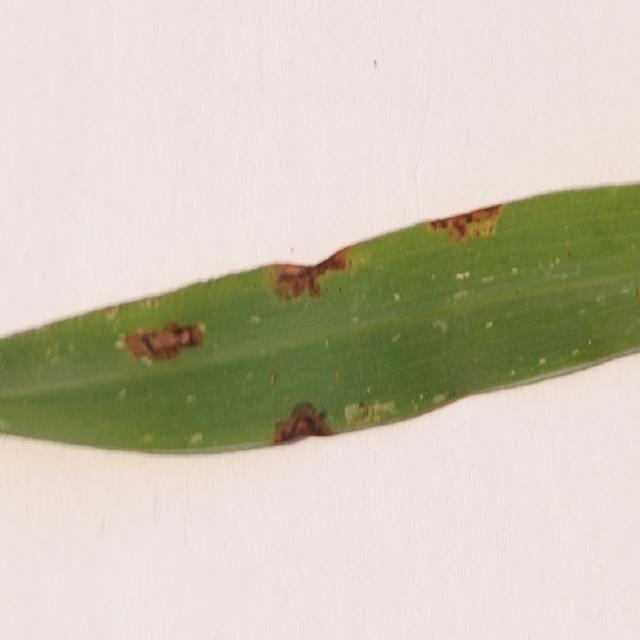Unhealthy: (270, 245, 359, 301), (112, 321, 205, 365), (426, 203, 504, 244), (269, 402, 335, 444), (344, 399, 398, 430), (105, 306, 119, 321)
